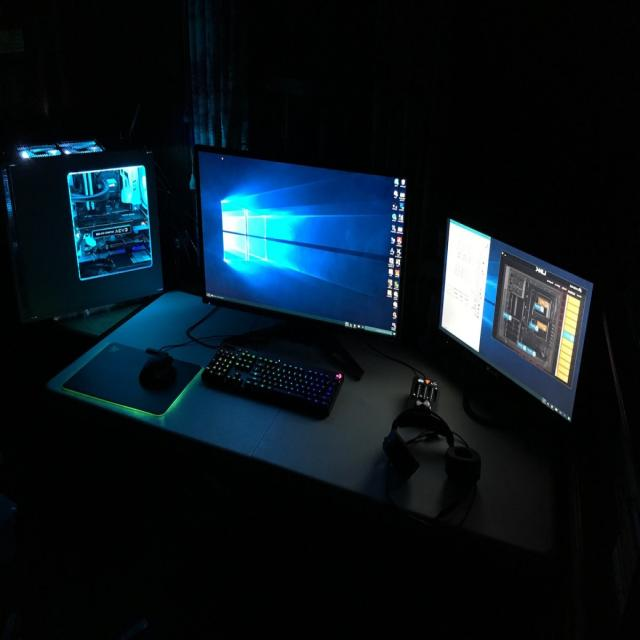monitor: (186, 139, 421, 385)
